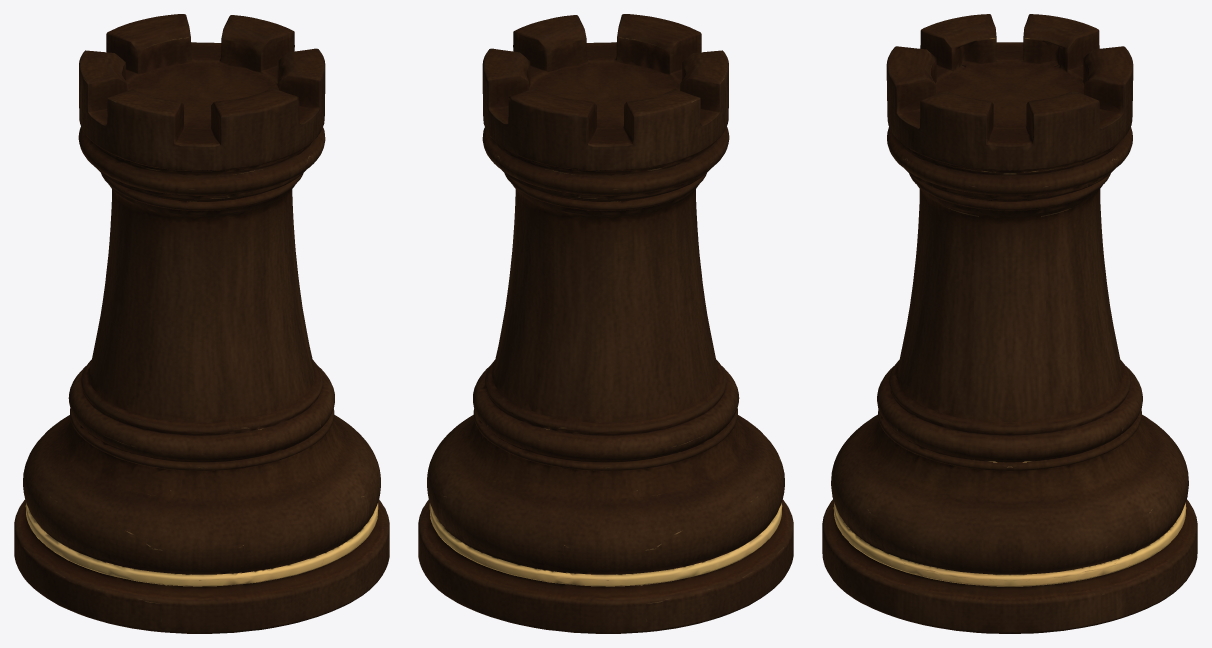
Rendered from 10_rook_dark.glb.
3 views of the same model, side by side, from view 1: azimuth 30°, elevation 25°; view 2: azimuth 150°, elevation 25°; view 3: azimuth 270°, elevation 25° (orthographic).
Parts seen in each view (by area): view 1: world; view 2: world; view 3: world.
Part boxes in pixels (x1,y1,x2,y2): world: (14, 14, 389, 633); world: (418, 14, 793, 633); world: (822, 14, 1197, 633).
Bounding box in the file's own units: 0.6932 × 1 × 0.6933.
1 material, 1 textured.
